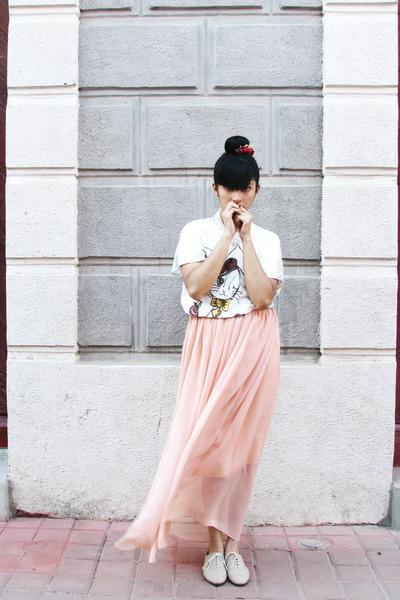short sleeve shirt: (167, 214, 286, 326)
skirt: (117, 306, 287, 552)
